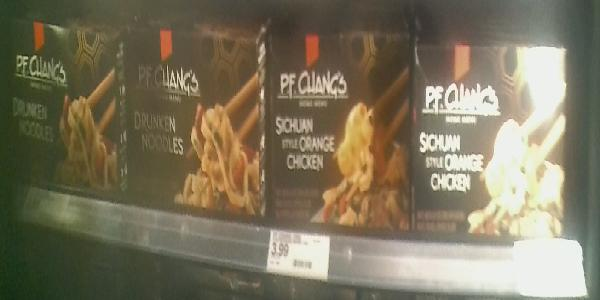pizza1: (265, 21, 415, 233), (415, 36, 568, 241), (127, 18, 262, 217), (3, 16, 126, 200)
